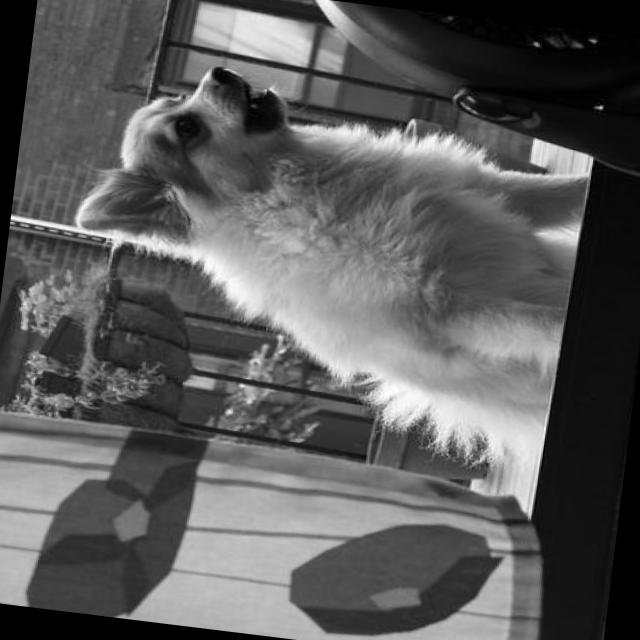sitting: (44, 48, 599, 469)
